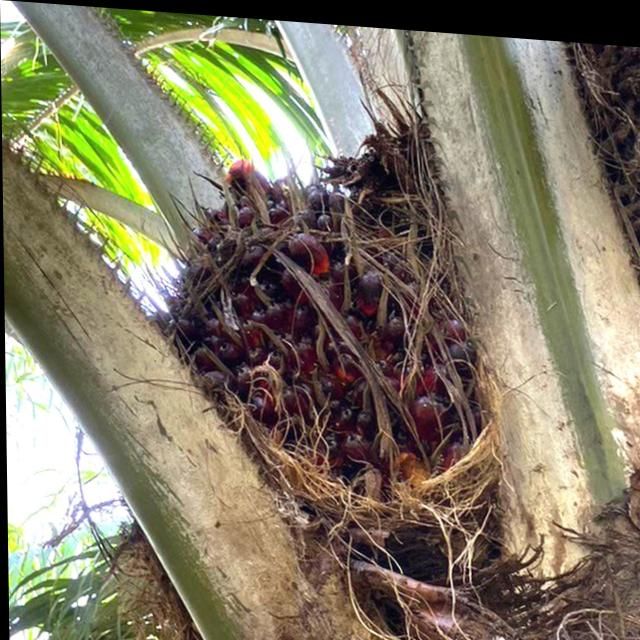ripe: (177, 158, 458, 486)
